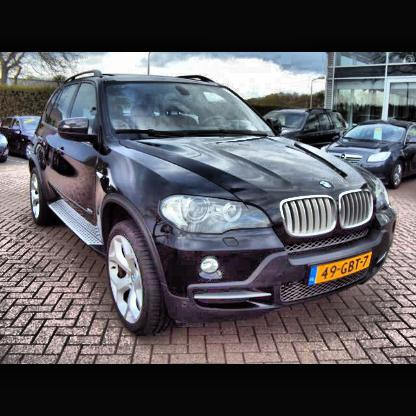BMW X5 SUV 2007: (44, 84, 396, 337)
